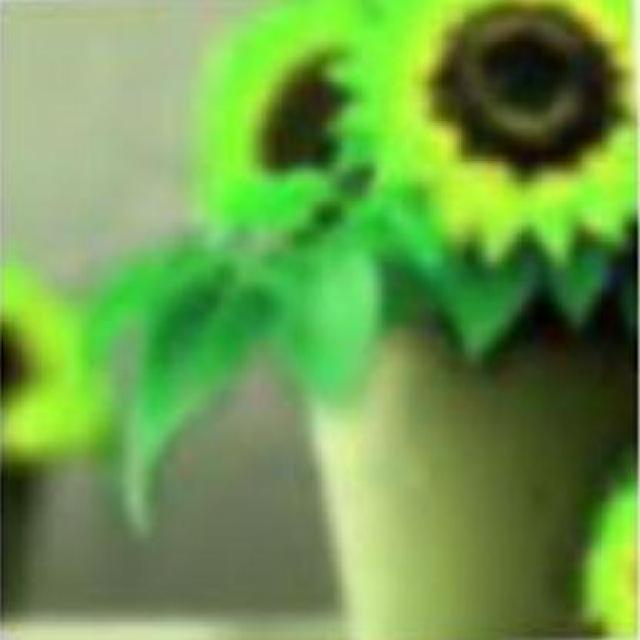sunflower: (358, 3, 633, 268), (188, 2, 364, 241)
